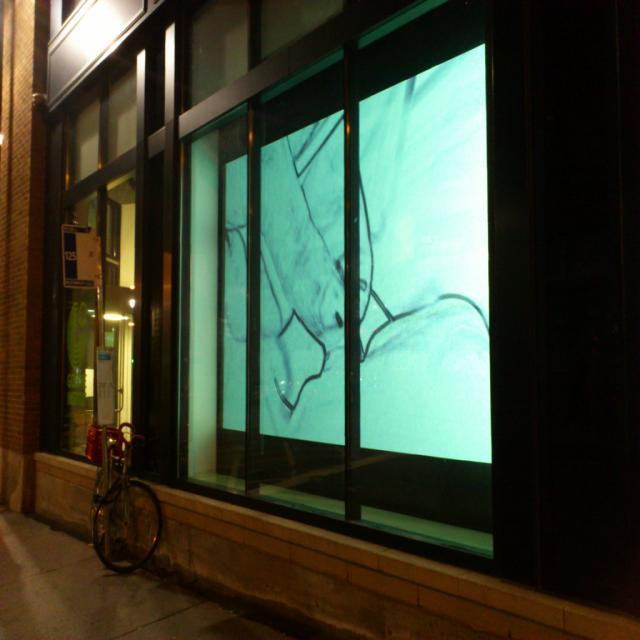car: (91, 420, 162, 572)
